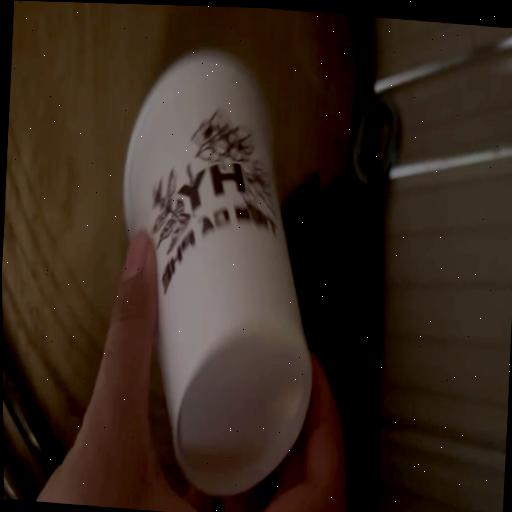Ly_giay: (124, 52, 311, 496)
